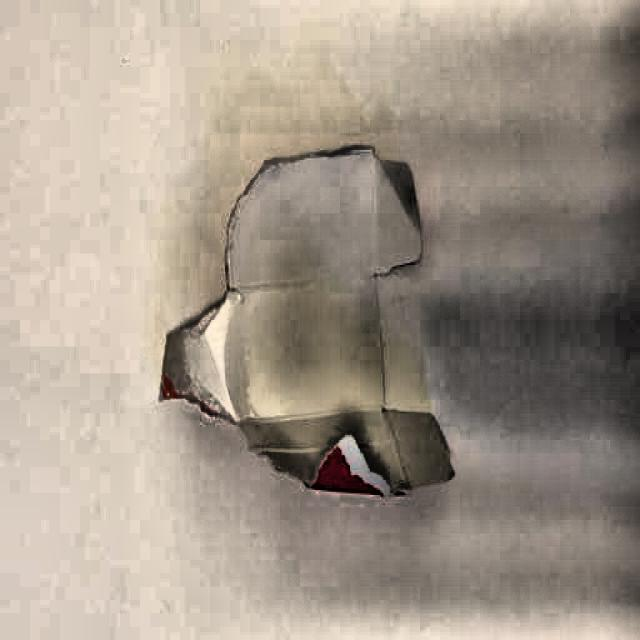paper: (160, 143, 463, 495)
